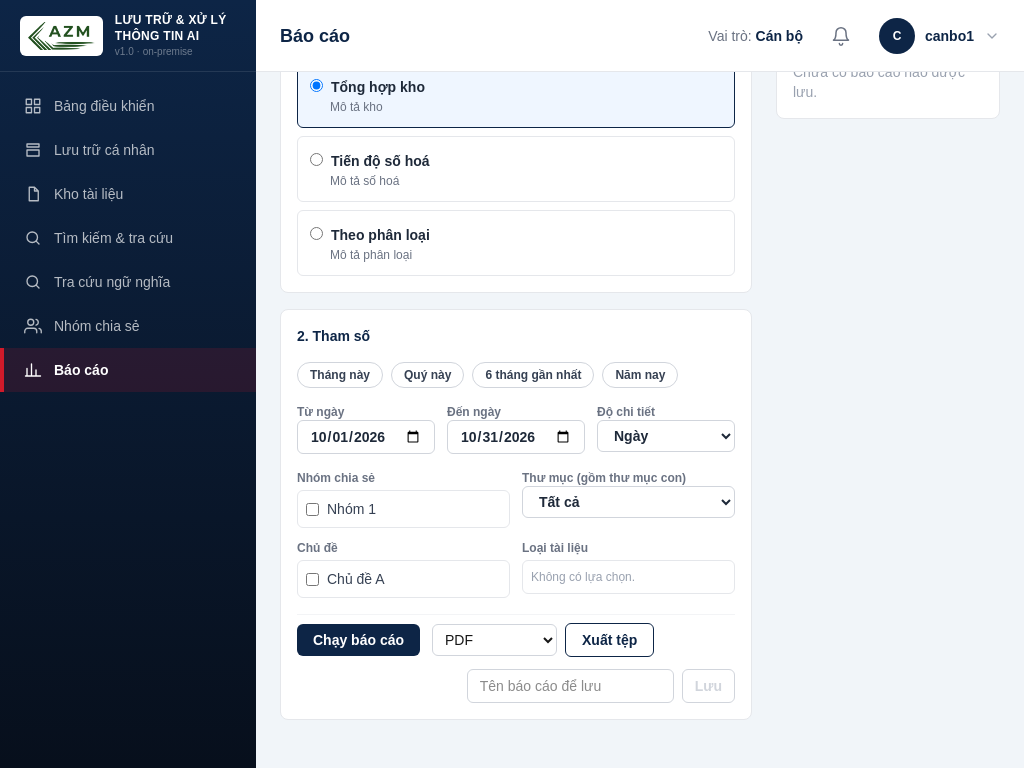
it: ReportsPage › hides the export controls without report.export, and exports with it (202 -> link to history)
(page scrolled)
Expected: the text "Tổng hợp kho" is shown, left=331, top=79, right=425, bottom=95
Expected: the button "Xuất tệp" is shown, left=565, top=623, right=654, bottom=657
Select "Excel (XLSX)" in the dropdown named "Định dạng tệp": (494, 640) left=432, top=624, right=557, bottom=656
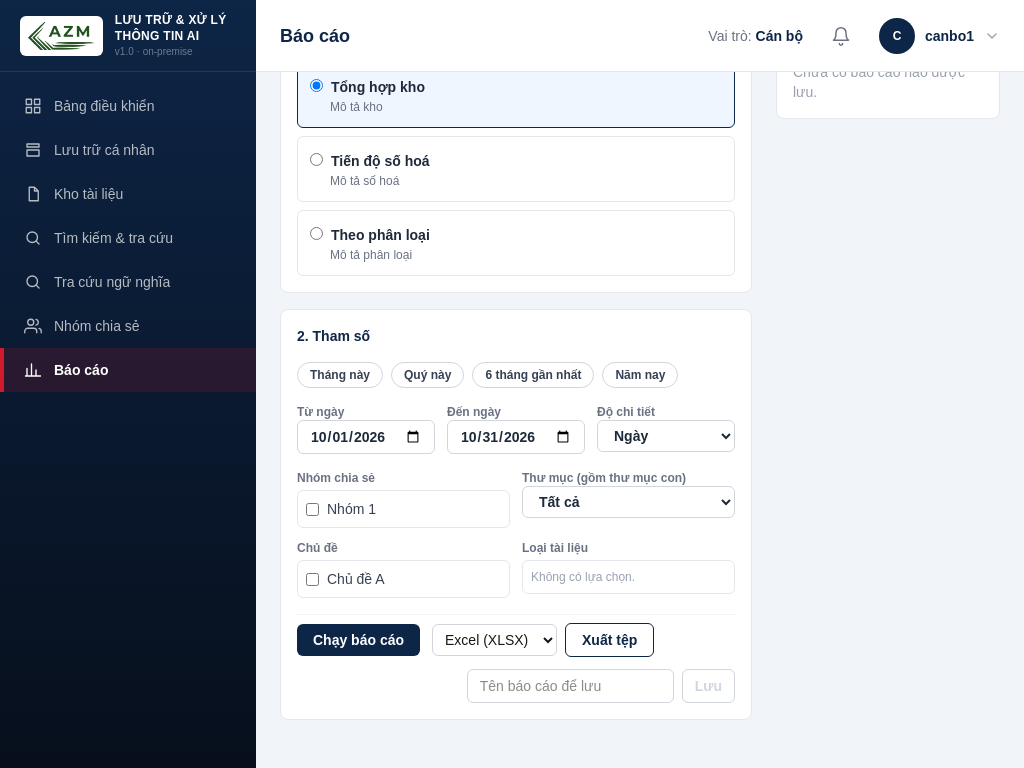
Click the button "Xuất tệp": (610, 640) left=565, top=623, right=654, bottom=657
(page scrolled)
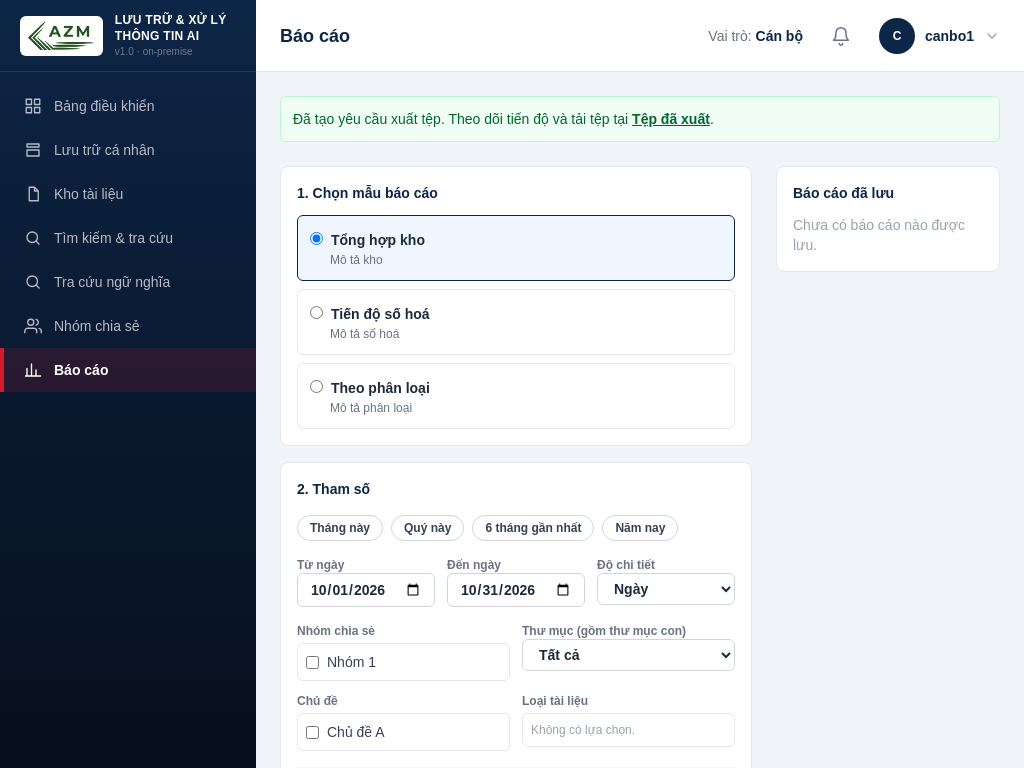
Now the text "Đã tạo yêu cầu xuất tệp. Theo dõi tiến độ và tải tệp tại Tệp đã xuất ." is shown, box left=280, top=96, right=1000, bottom=142
